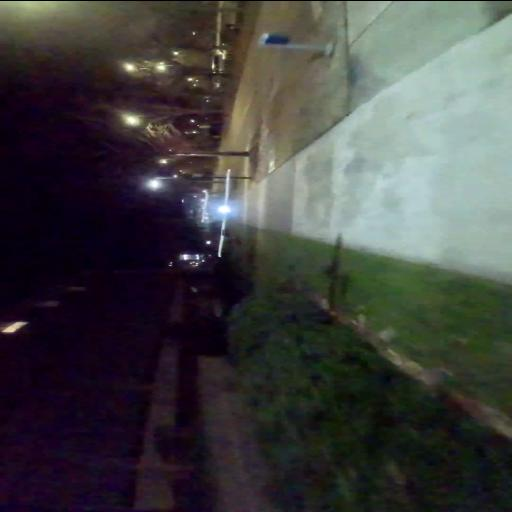uav: (201, 168, 243, 258)
